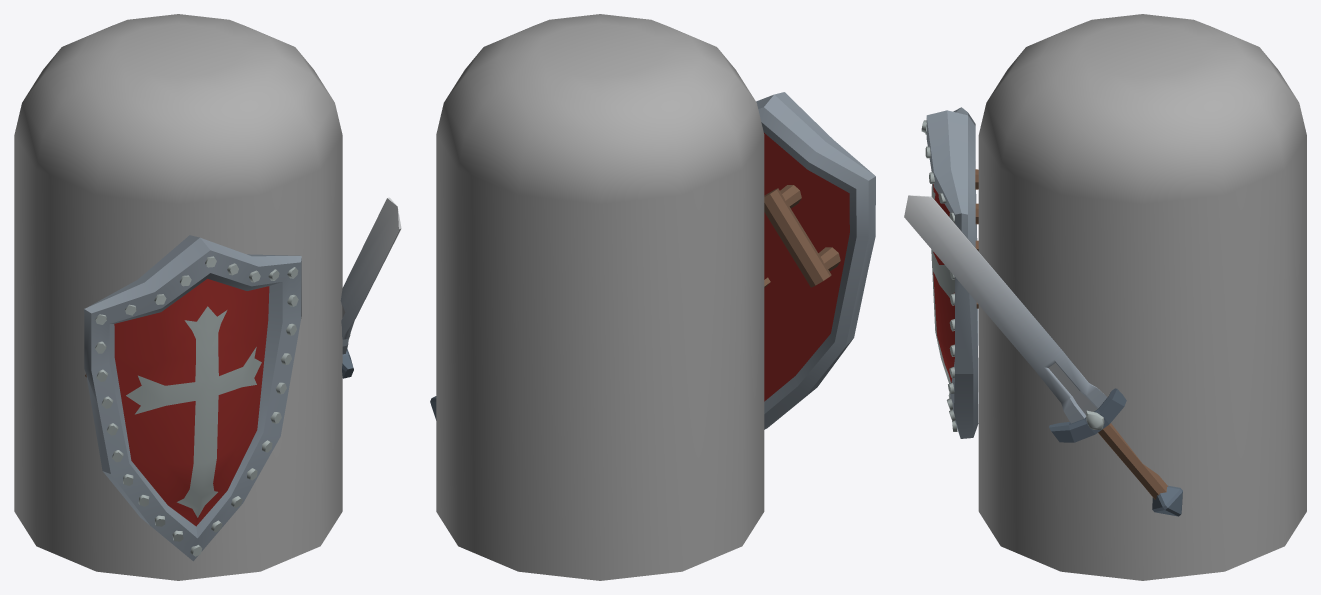
Rendered from Tank_Enemy_Melee.fbx.
3 renders of one model, left to right at view 1: azimuth 30°, elevation 25°; view 2: azimuth 150°, elevation 25°; view 3: azimuth 270°, elevation 25°, orthographic.
Parts seen in each view (by area): view 1: Body, Shield1, Sword1; view 2: Body, Shield1; view 3: Body, Sword1, Shield1.
Part boxes in pixels (x1,y1,x2,y2): Body: (14,14,342,580); Shield1: (84,235,301,561); Sword1: (340,197,401,378); Body: (436,14,764,580); Shield1: (756,92,875,429); Body: (978,14,1306,580); Sword1: (904,195,1182,516); Shield1: (921,107,978,438).
Bounding box in the file's own units: 130 × 167 × 132.
